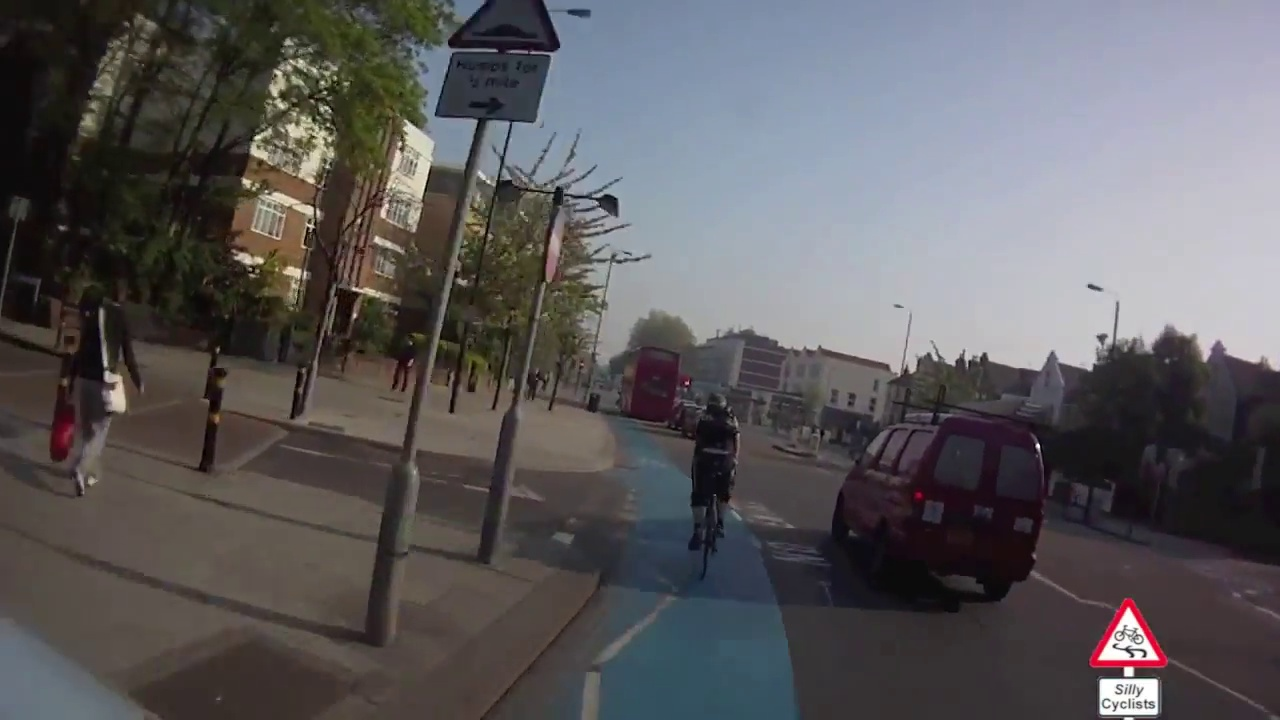cyclist_back: (685, 386, 745, 587)
